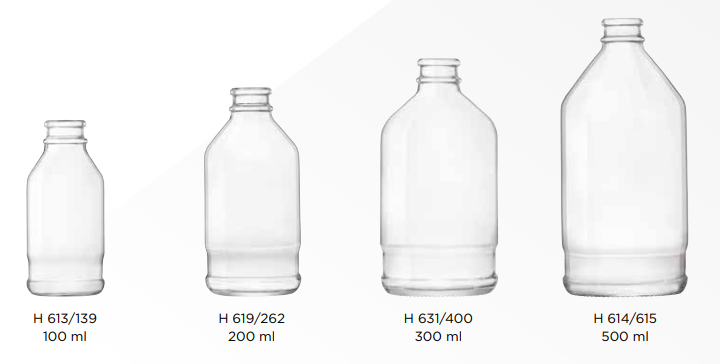glass_bottle: (558, 15, 692, 299), (375, 53, 503, 300), (201, 85, 304, 301), (23, 117, 112, 302)
